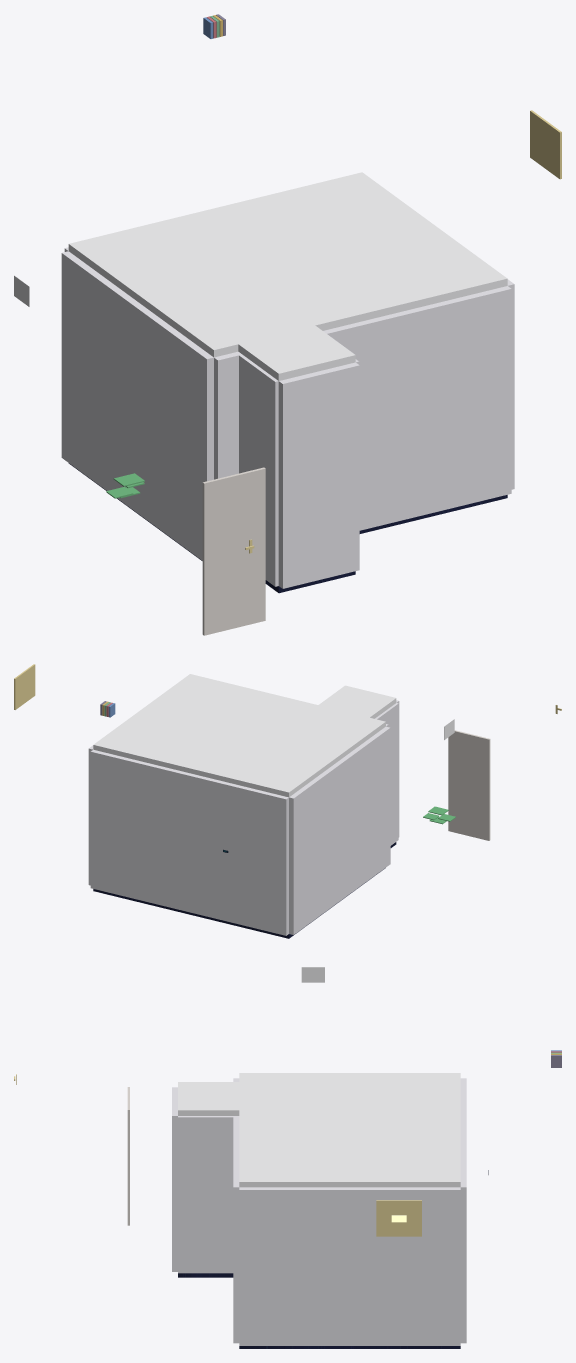
File: mobile-room-lod.glb
3 views of the same model, one above another, from view 1: azimuth 30°, elevation 25°; view 2: azimuth 150°, elevation 25°; view 3: azimuth 270°, elevation 25° (orthographic). The views are drawn at different scales.
Parts seen in each view (by area): view 1: ceiling_main, wall_front_right, wall_left, wall_hallway_b, door_leaf, wall_hallway_l, ceiling_hallway, wall_front_left, painting_frame, wall_right; view 2: wall_rear, ceiling_main, wall_left, door_leaf, ceiling_hallway, wall_hallway_l, painting_frame, floor_main, wall_right; view 3: wall_right, ceiling_main, wall_hallway_r, ceiling_hallway, wall_rear, painting_frame, wall_front_right, wall_hallway_b, floor_main.
Part boxes in pixels (x1,y1,x2,y2): ceiling_main: (68,172,507,357); wall_front_right: (323,286,511,530); wall_left: (61,251,213,560); wall_hallway_b: (278,362,359,588); door_leaf: (202,467,265,635); wall_hallway_l: (236,351,278,586); ceiling_hallway: (238,325,355,380); wall_front_left: (214,352,241,479); painting_frame: (530,110,561,179); wall_right: (507,279,514,489); wall_rear: (90,749,288,935); ceiling_main: (93,674,385,797); wall_left: (289,726,390,934); door_leaf: (448,730,490,840); ceiling_hallway: (318,685,396,718); wall_hallway_l: (375,703,398,845); painting_frame: (14,664,35,709); floor_main: (93,868,385,938); wall_right: (88,745,93,885); wall_right: (239,1187,460,1345); ceiling_main: (239,1073,460,1187); wall_hallway_r: (178,1116,239,1273); ceiling_hallway: (178,1082,239,1115); wall_rear: (460,1078,466,1343); painting_frame: (376,1200,421,1236); wall_front_right: (233,1116,239,1343); wall_hallway_b: (172,1087,177,1271); floor_main: (239,1346,460,1348).
Bounding box in the file's own units: 8.32 × 4.75 × 8.92.
43 materials, 7 textured.
